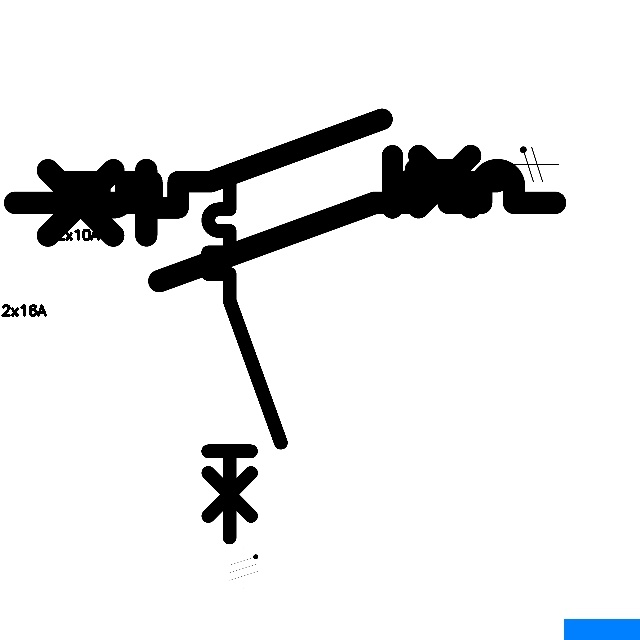interruptor_termomagnetico: (1, 156, 569, 295), (56, 108, 508, 219), (199, 173, 290, 547)
